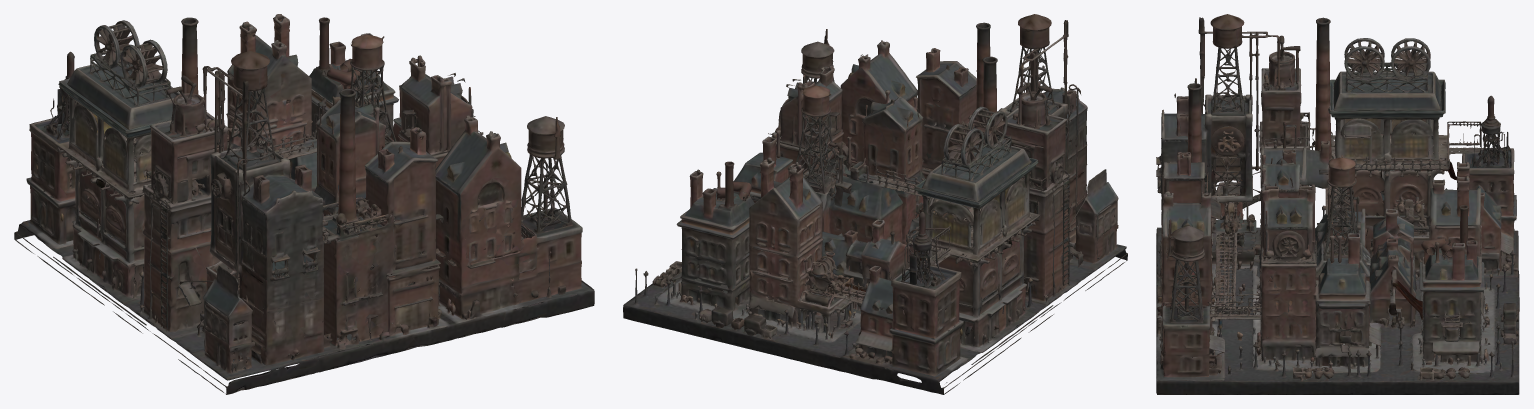
The model's file is city.glb.
3 renders of one model, left to right at view 1: azimuth 30°, elevation 25°; view 2: azimuth 150°, elevation 25°; view 3: azimuth 270°, elevation 25°, orthographic. The views are drawn at different scales.
Parts seen in each view (by area): view 1: world; view 2: world; view 3: world.
Boxes of the visible parts, <box> form: world: <box>14,14,594,394</box>; world: <box>623,14,1127,394</box>; world: <box>1156,14,1519,394</box>.
Size of the model in its own units: 1 by 0.7745 by 1.
1 material, 1 textured.
